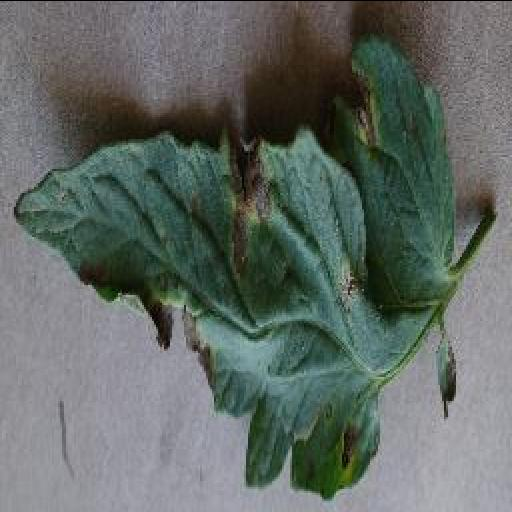disease_tomato: (13, 30, 455, 496)
